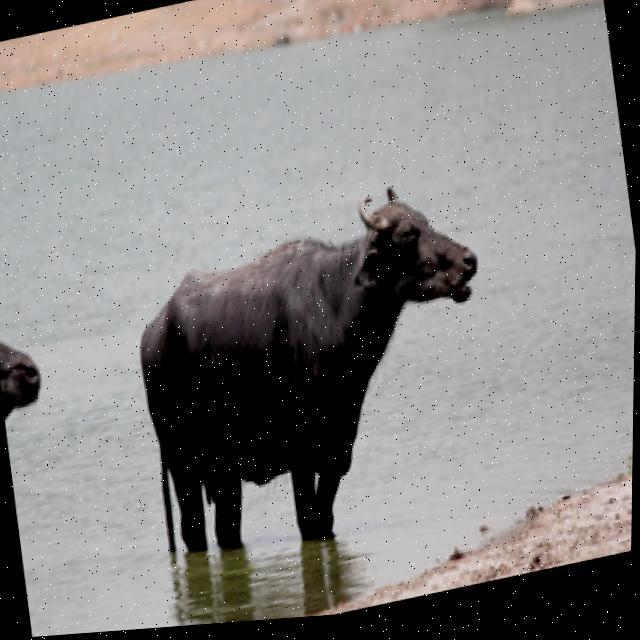Buffalo: (115, 160, 514, 580)
